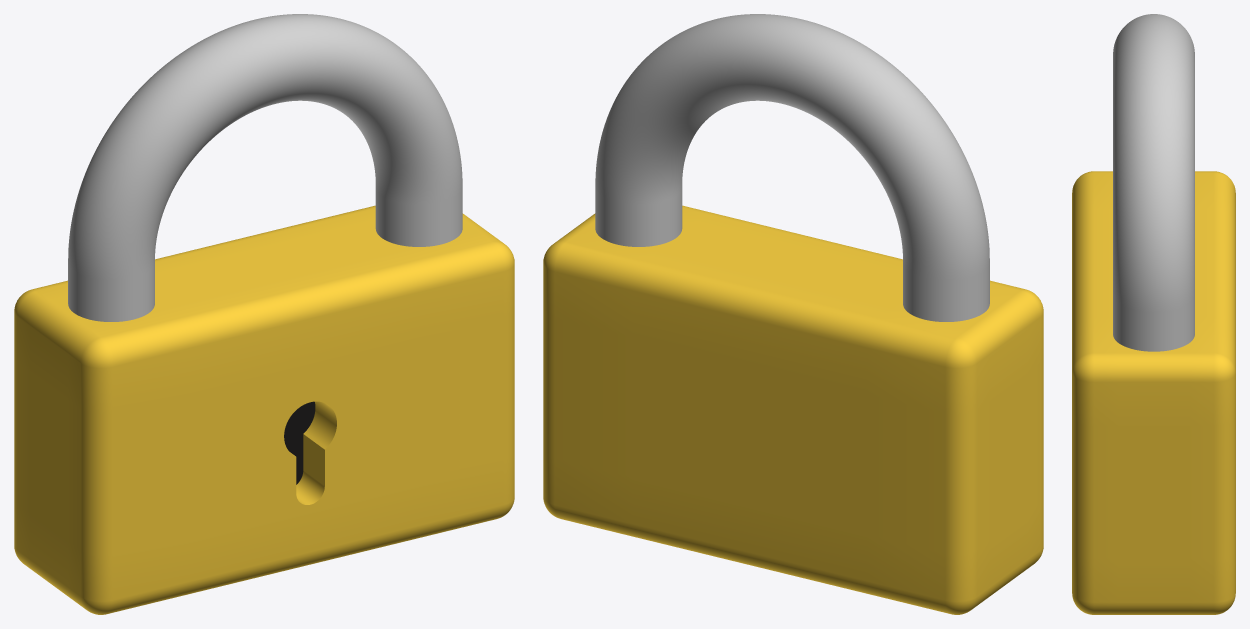
The model's file is candado.fbx.
3 renders of one model, left to right at view 1: azimuth 30°, elevation 25°; view 2: azimuth 150°, elevation 25°; view 3: azimuth 270°, elevation 25°, orthographic. The views are drawn at different scales.
Visible parts, largest first — view 1: Boole_1, Cylinder_1, Extrude_1; view 2: Boole_1, Cylinder_1; view 3: Boole_1, Cylinder_1.
Boxes of the visible parts, <box> form: Boole_1: <box>14,205,514,614</box>; Cylinder_1: <box>68,14,462,321</box>; Extrude_1: <box>284,401,315,484</box>; Boole_1: <box>543,205,1043,614</box>; Cylinder_1: <box>595,14,989,321</box>; Boole_1: <box>1072,171,1235,614</box>; Cylinder_1: <box>1113,14,1194,351</box>.
Size of the model in its own units: 573 by 660 by 200.
